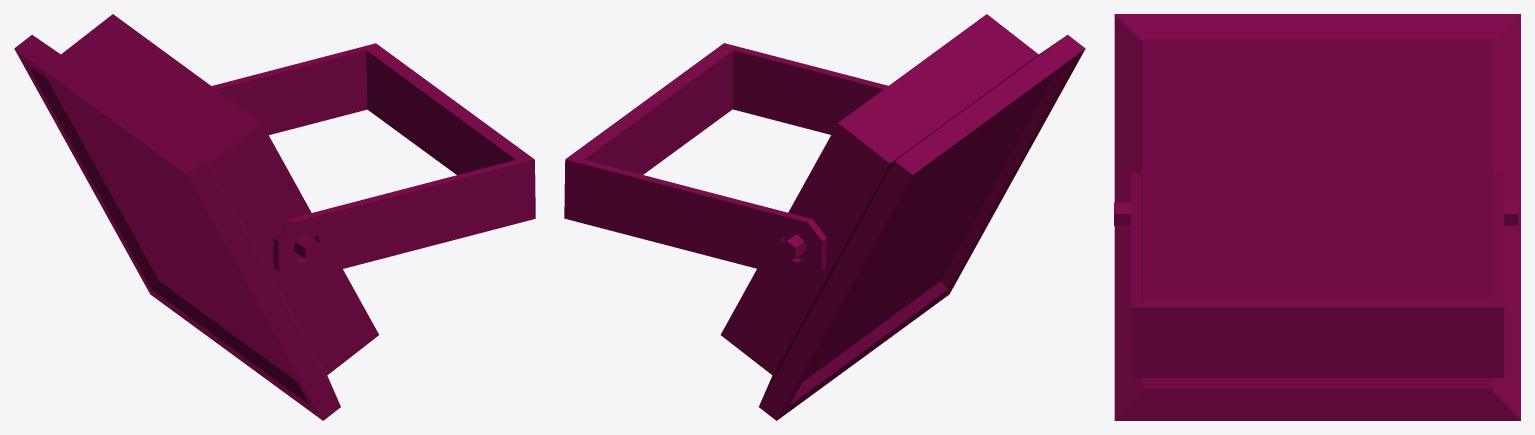
File: Reflector.fbx
3 renders of one model, left to right at view 1: azimuth 30°, elevation 25°; view 2: azimuth 150°, elevation 25°; view 3: azimuth 270°, elevation 25°, orthographic. The views are drawn at different scales.
Parts seen in each view (by area): view 1: Reflector; view 2: Reflector; view 3: Reflector.
Boxes of the visible parts, left/top/right/bottom form: Reflector: left=14, top=14, right=535, bottom=420; Reflector: left=564, top=14, right=1085, bottom=420; Reflector: left=1114, top=14, right=1520, bottom=420.
Bounding box in the file's own units: 0.3132 × 0.2535 × 0.264.
